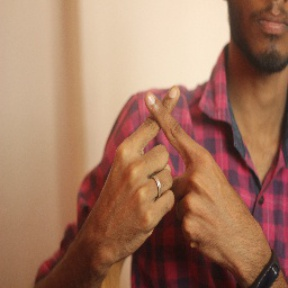X: (108, 81, 216, 186)
